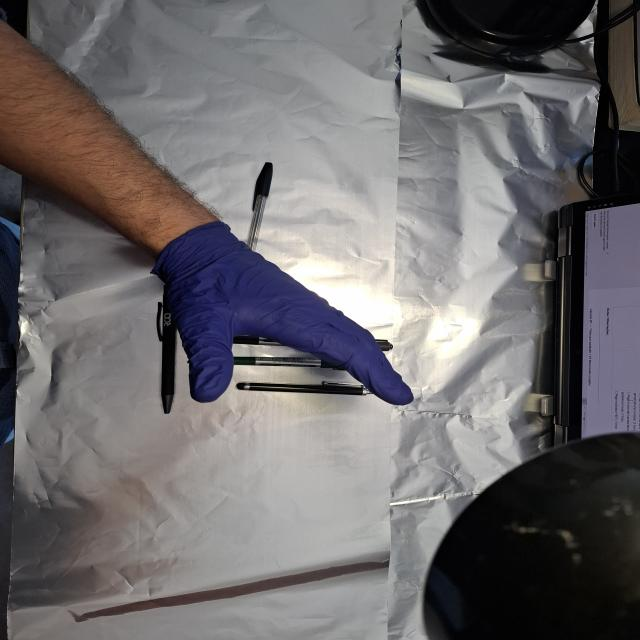glove_on: (150, 218, 418, 408)
